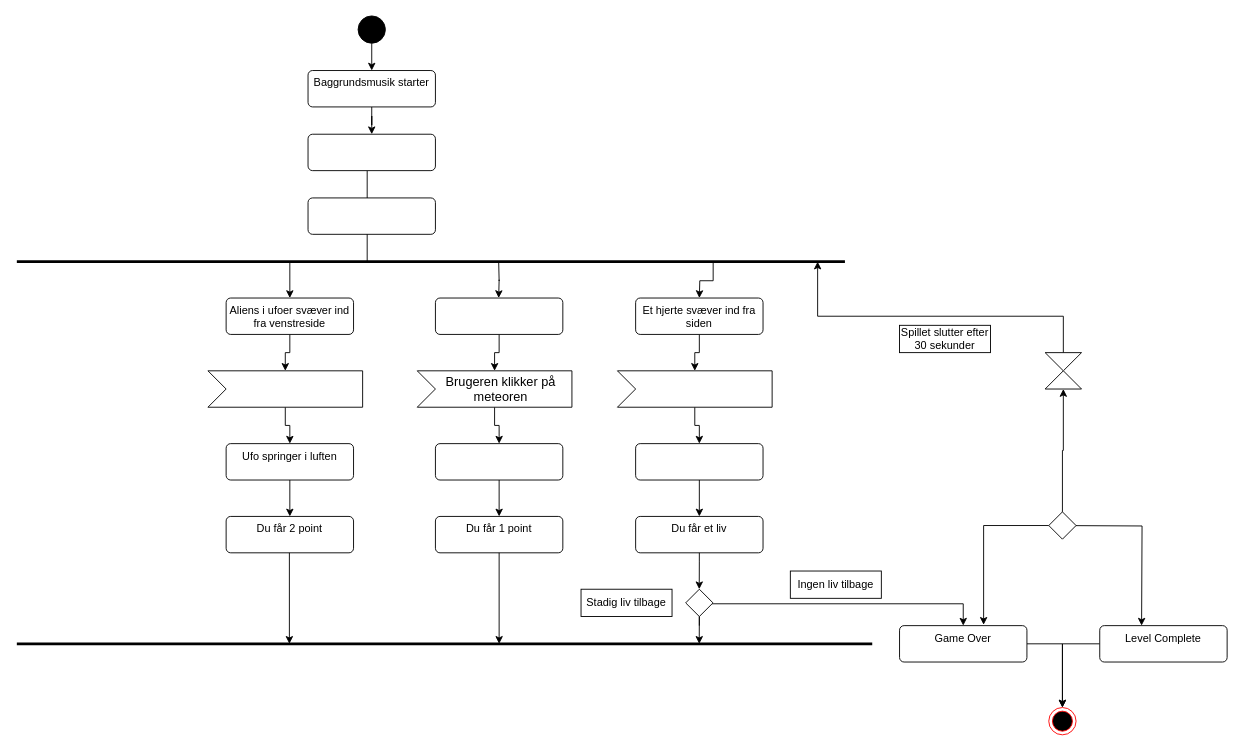
Some shapes in this 1243 by 751 pixel diagram are drawn without their labels. The shapes that lost their labels are listed below. From the top down, each one's box as (x1, y1, x2, y2) in pixels, then its label:
(307, 133, 435, 171): Person sætter sig ind i rumraketten
(307, 197, 435, 234): Tæller ned 3, 2, 1
(435, 297, 563, 334): Meteorer svæver ind fra venstreside
(207, 370, 363, 407): Brugeren klikker på ufoen
(617, 370, 772, 407): Brugeren klikker på hunden
(435, 443, 563, 480): meteorer springer i luften
(635, 443, 763, 480): Hjertet forsvinder
